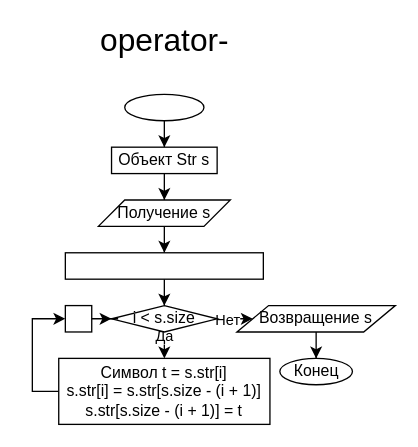
The diagram is 418 pixels wide and 447 high, and some of its shapes have lost their labels. Each missing label, with the centre of its shape:
++i: (x=78, y=318)
Натуральное число i = 0: (x=163, y=265)
Начало: (x=163, y=107)
